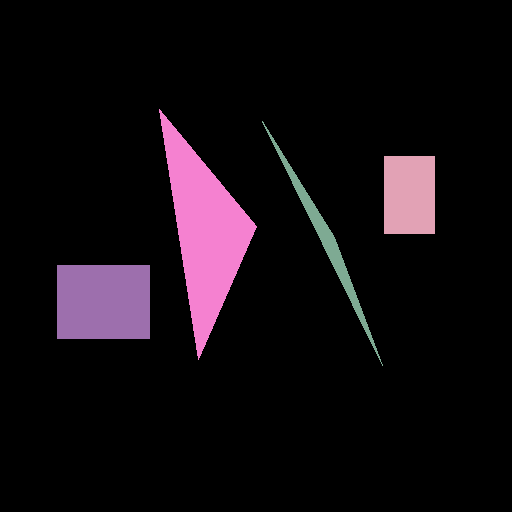rectangle: (57, 265, 149, 338), (384, 156, 434, 233)
triangle: (262, 121, 382, 365), (159, 109, 256, 359)
